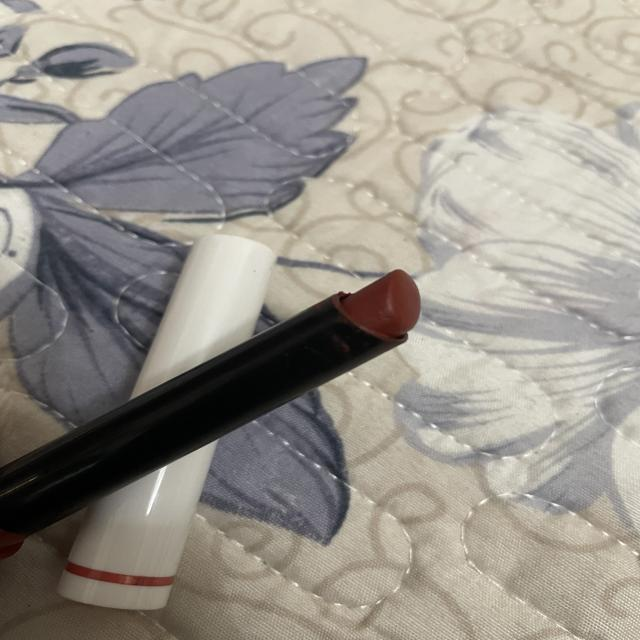lip stick: (0, 262, 434, 531)
